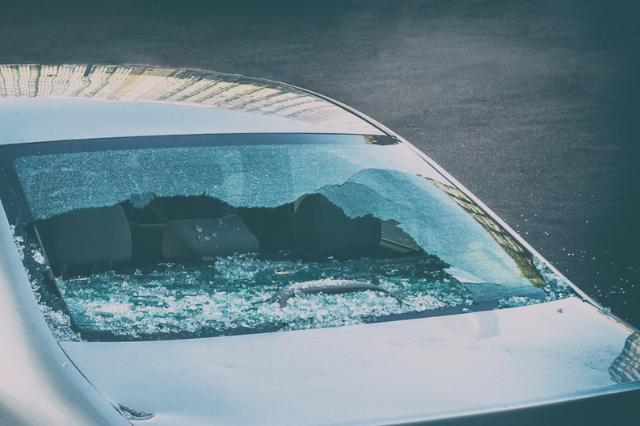Windshield: (12, 135, 536, 325)
